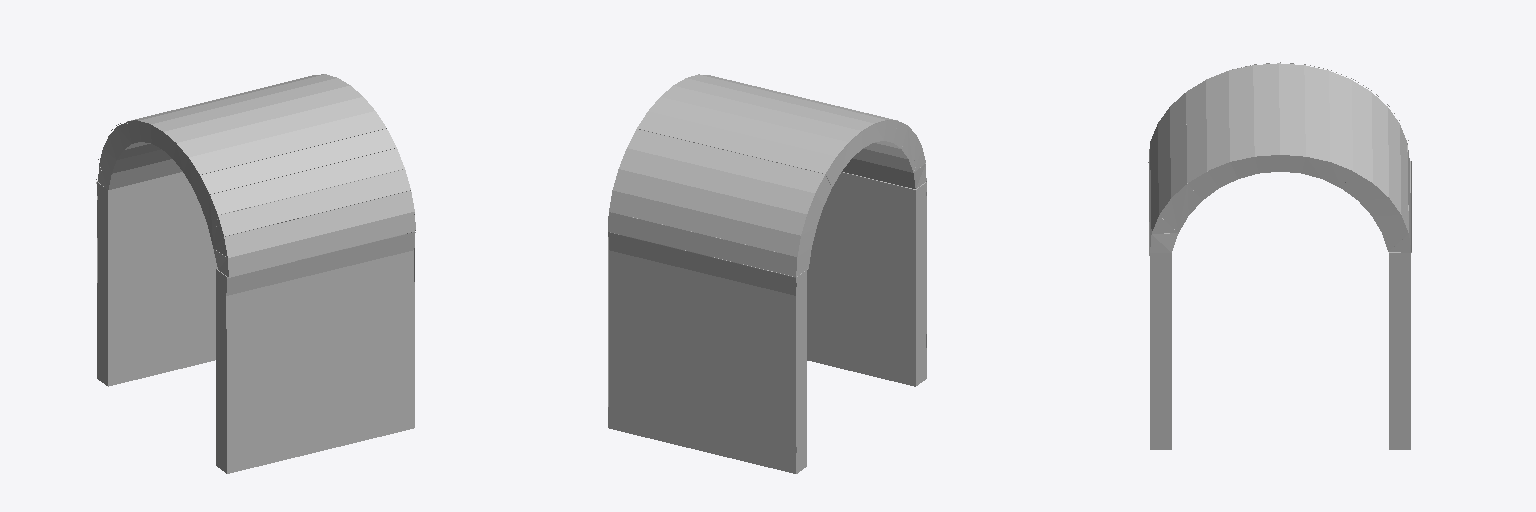
Rendered from tunnel.obj.
3 views of the same model, side by side, from view 1: azimuth 30°, elevation 25°; view 2: azimuth 150°, elevation 25°; view 3: azimuth 270°, elevation 25° (orthographic).
Visible parts, largest first — view 1: Cube; view 2: Cube; view 3: Cube.
Boxes of the visible parts, box(x1,y1,x2,y2) form: Cube: box(96, 74, 415, 473); Cube: box(608, 74, 926, 473); Cube: box(1148, 62, 1411, 449).
Size of the model in its own units: 4.04 by 6.01 by 4.85.